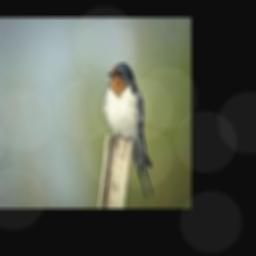Swallow: (102, 63, 154, 199)
